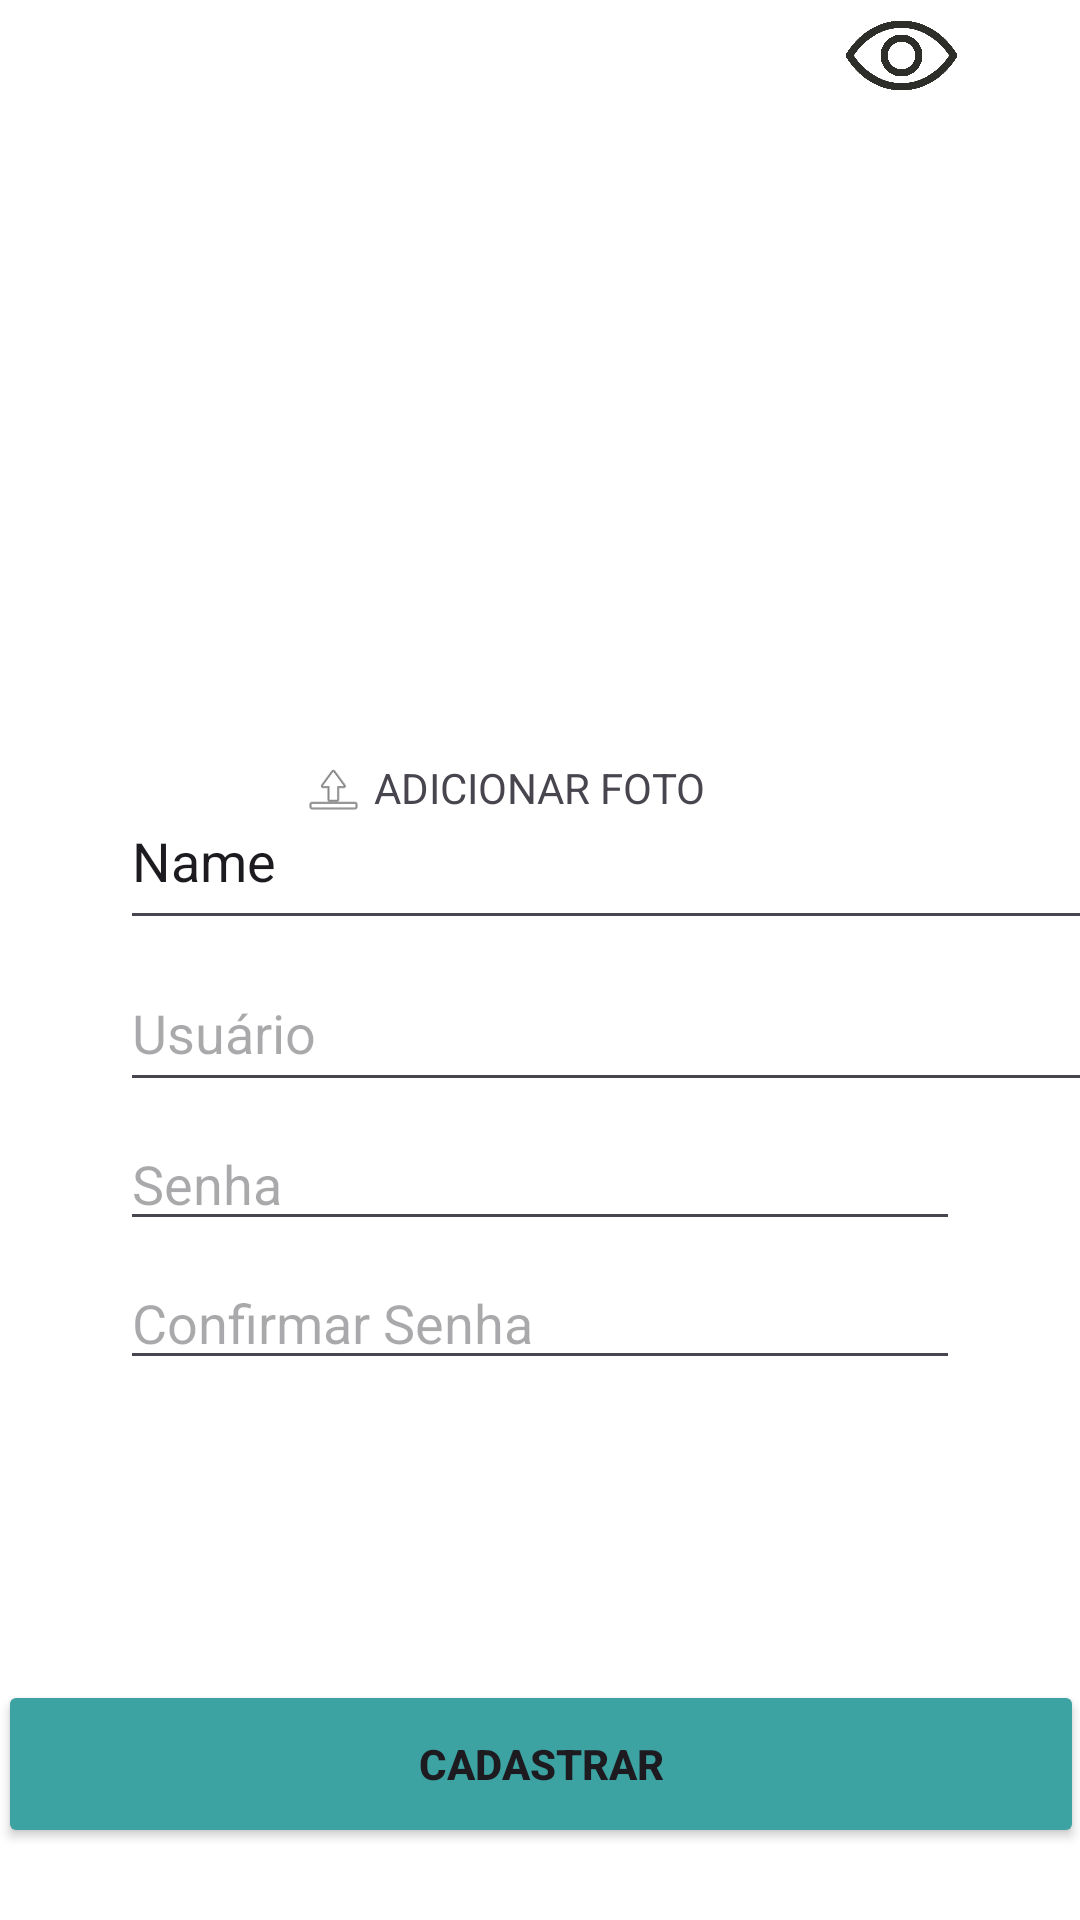

Screen size 1080*1920. Icon name, then its center in pixels as [x,y]:
upload: [333,789]
